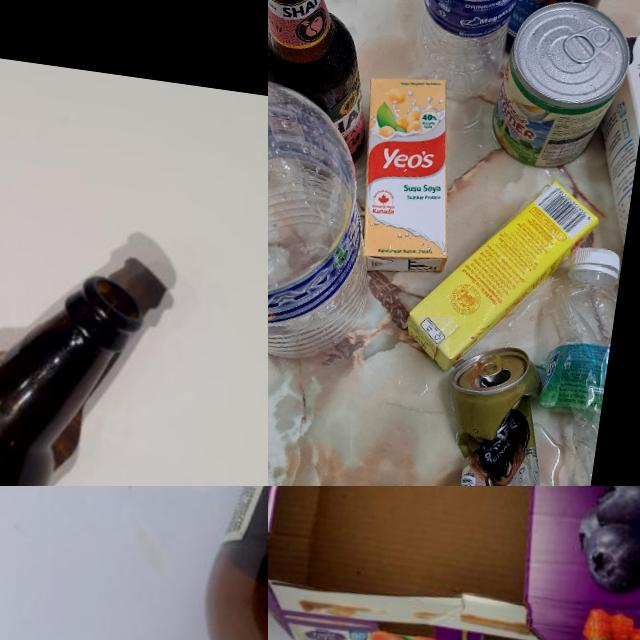aba de lata: (564, 15, 612, 67), (472, 347, 504, 382)
caixinha: (405, 162, 602, 382), (344, 68, 478, 288), (588, 20, 640, 313)
garrafa de vidro: (0, 241, 149, 486), (268, 0, 395, 173), (166, 486, 268, 640), (487, 0, 640, 60)
garrafa plástica: (268, 74, 387, 372), (514, 266, 620, 486), (405, 0, 530, 118)
lata: (489, 0, 640, 175), (427, 341, 567, 486)
papelão: (268, 486, 640, 640)
tampa plástica: (569, 240, 624, 278)
